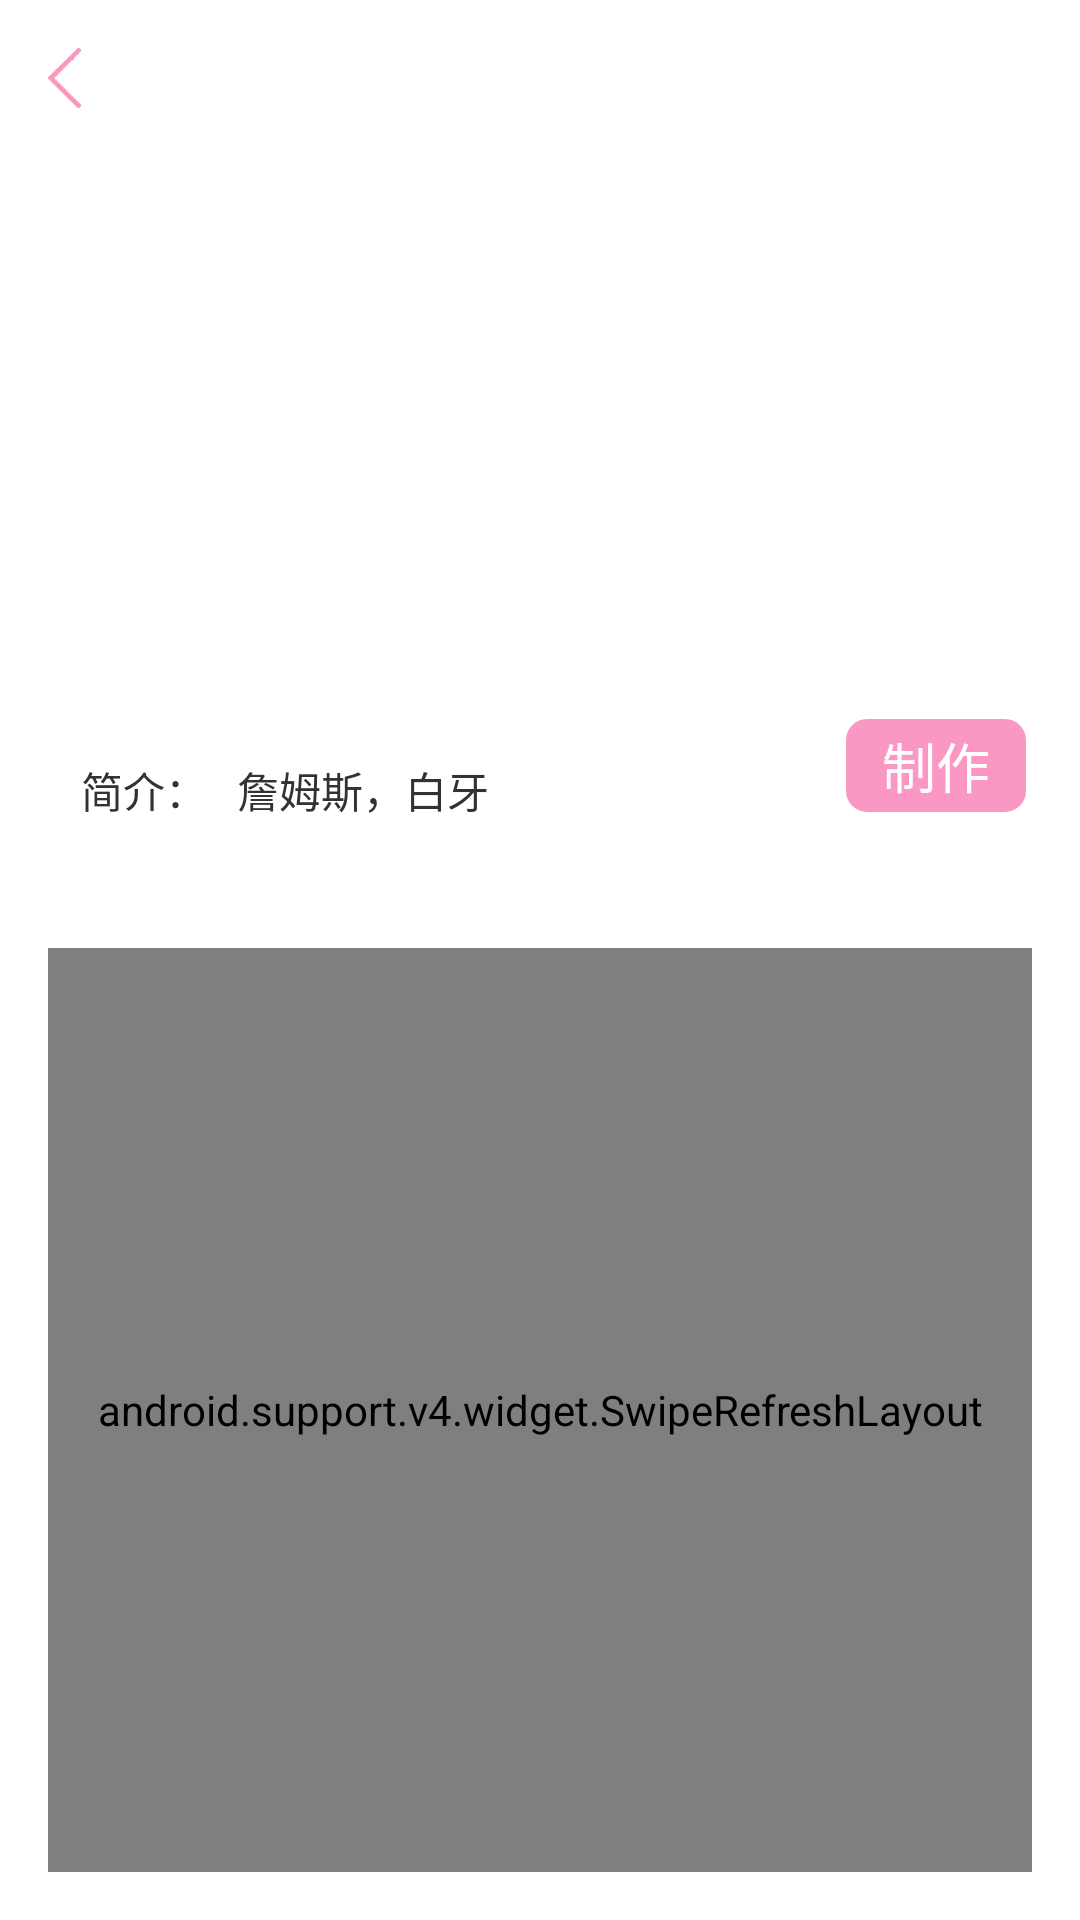

Screen size 1080w x 1920h. Icon name, then its box in pixels as (x1, y1, x2, y2):
back: (48, 48, 81, 108)
